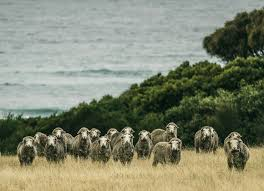sheep: (222, 133, 250, 172), (153, 138, 185, 168), (192, 127, 220, 158), (132, 129, 153, 161), (114, 133, 135, 165), (17, 135, 37, 166), (91, 135, 112, 164), (43, 136, 66, 162), (73, 127, 91, 158), (152, 122, 180, 141), (51, 125, 74, 148), (33, 129, 47, 153), (87, 127, 100, 140)
